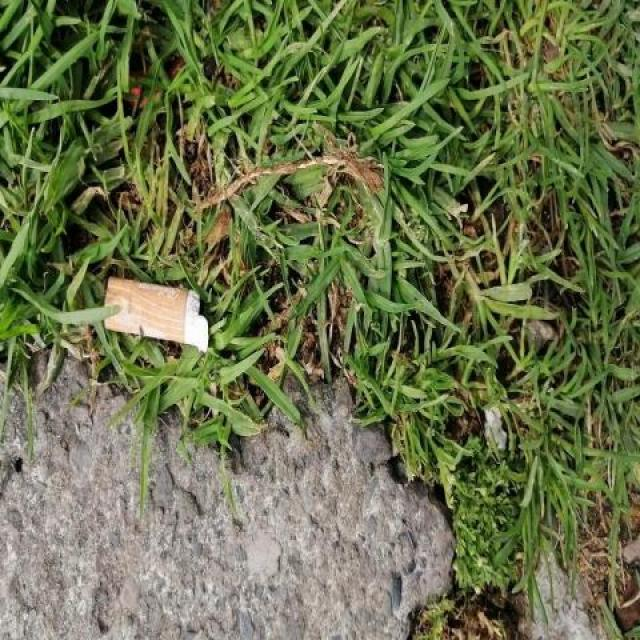non-organic waste: (102, 271, 210, 356)
